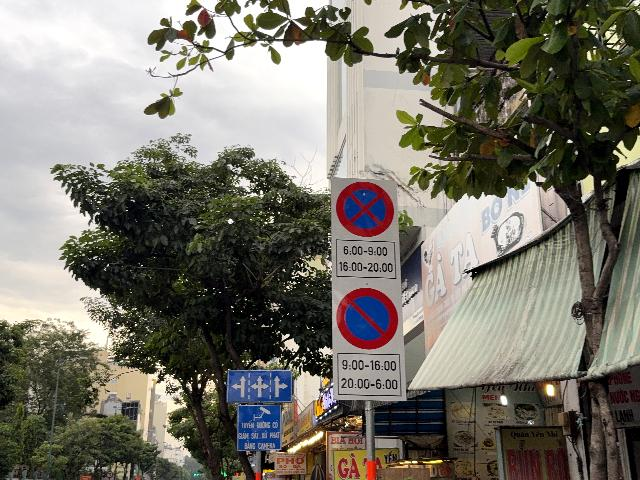cam-do-xe: (337, 288, 398, 350)
cam-dung-va-do-xe: (335, 181, 395, 238)
